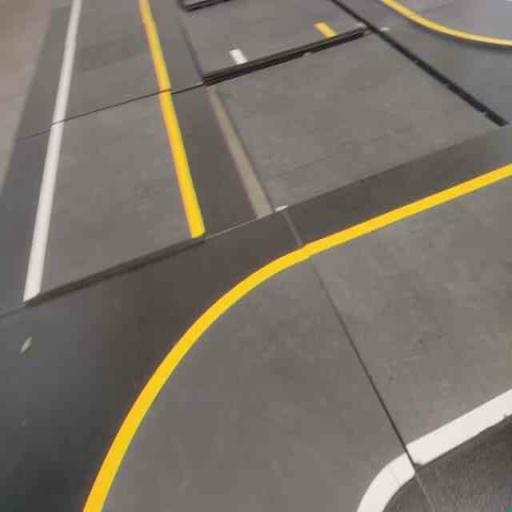right: (78, 224, 437, 511)
